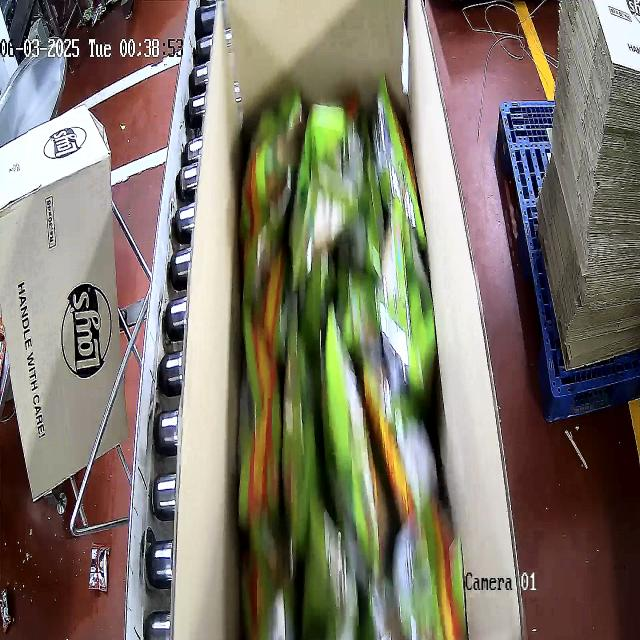YOGURT_HERB: (237, 75, 467, 638)
